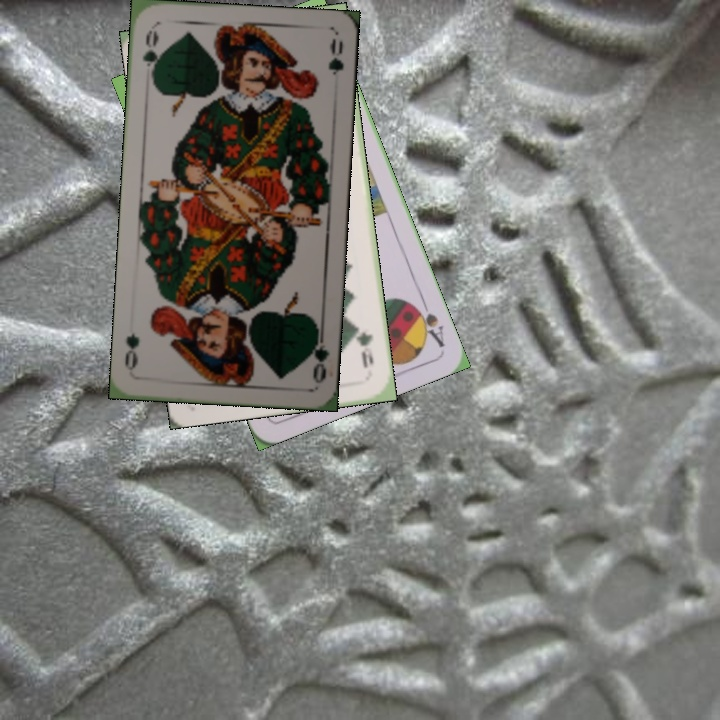G9: (351, 319, 376, 371)
GO: (304, 324, 332, 384), (138, 25, 162, 84)
SA: (408, 293, 447, 351)
